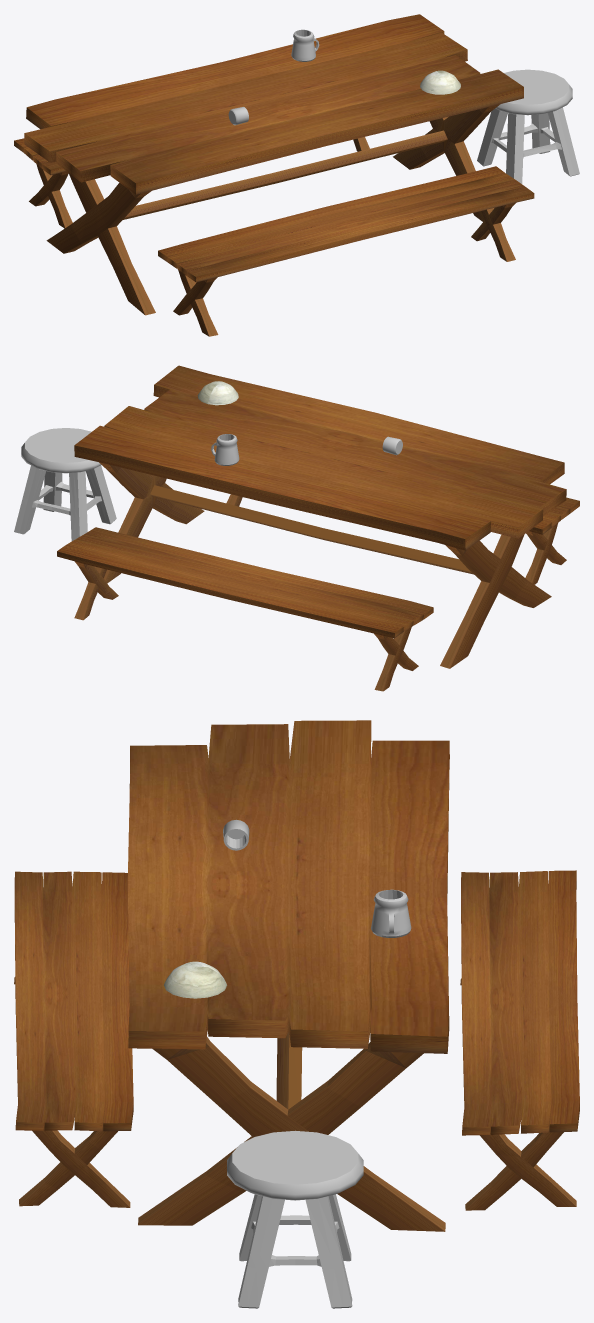
Rendered from bar table.obj.
The picture shows the model from 3 angles, top to bottom: view 1: azimuth 30°, elevation 25°; view 2: azimuth 150°, elevation 25°; view 3: azimuth 270°, elevation 25°; orthographic projection. The views are drawn at different scales.
Visible parts, largest first — view 1: Table_Tavern.001, Stool_Tavern.002, Bowl_Tavern.005, Cup1_Tavern.003; view 2: Table_Tavern.001, Stool_Tavern.002, Bowl_Tavern.005, Cup1_Tavern.003; view 3: Table_Tavern.001, Stool_Tavern.002, Bowl_Tavern.005, Cup1_Tavern.003.
Part boxes in pixels (left/top/right/bottom): Table_Tavern.001: left=14, top=14, right=534, bottom=336; Stool_Tavern.002: left=477, top=69, right=579, bottom=183; Bowl_Tavern.005: left=420, top=70, right=460, bottom=94; Cup1_Tavern.003: left=291, top=29, right=319, bottom=61; Table_Tavern.001: left=57, top=365, right=579, bottom=691; Stool_Tavern.002: left=14, top=428, right=116, bottom=540; Bowl_Tavern.005: left=197, top=381, right=238, bottom=405; Cup1_Tavern.003: left=211, top=434, right=239, bottom=465; Table_Tavern.001: left=14, top=720, right=579, bottom=1231; Stool_Tavern.002: left=227, top=1130, right=363, bottom=1308; Bowl_Tavern.005: left=164, top=961, right=226, bottom=998; Cup1_Tavern.003: left=371, top=889, right=411, bottom=937.
Bounding box in the file's own units: 143 × 43.16 × 88.65.
